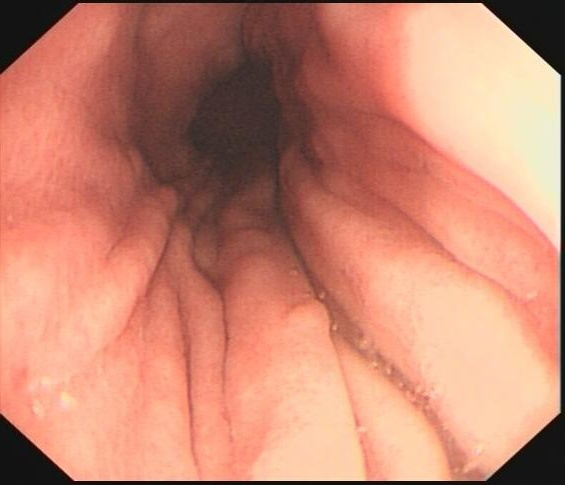Polyp: (278, 295, 332, 349)
